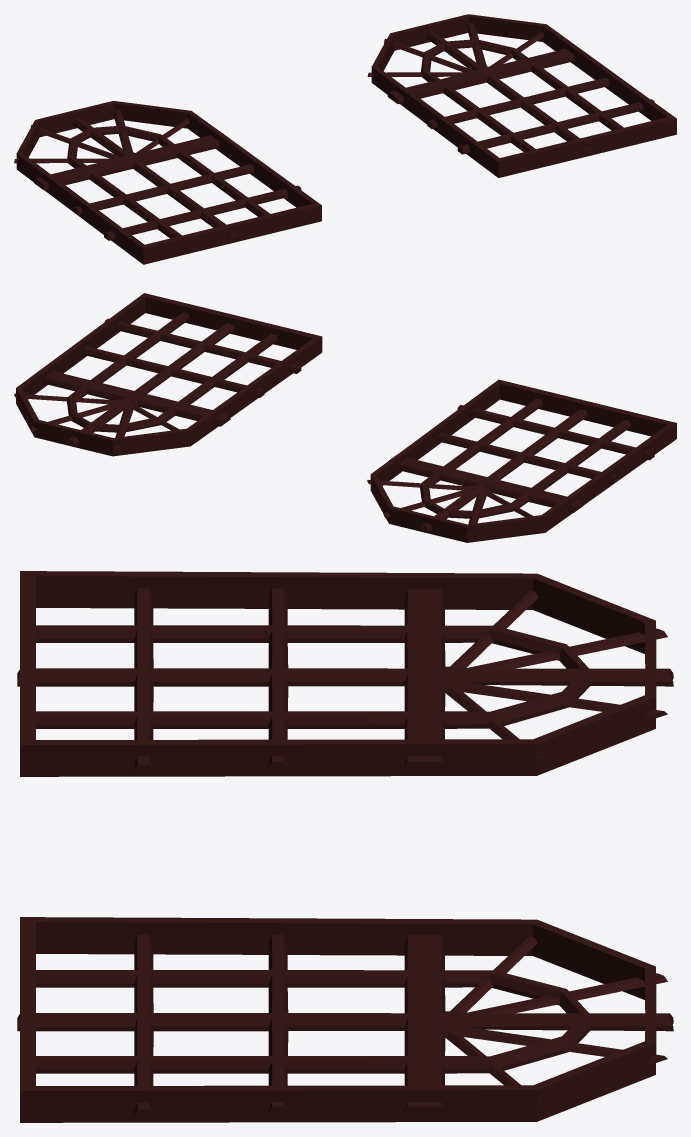
File: P_CadreArrondieSolo.fbx
3 views of the same model, one above another, from view 1: azimuth 30°, elevation 25°; view 2: azimuth 150°, elevation 25°; view 3: azimuth 270°, elevation 25° (orthographic). The views are drawn at different scales.
Visible parts, largest first — view 1: P_CadreArrondieSolo; view 2: P_CadreArrondieSolo; view 3: P_CadreArrondieSolo.
Boxes of the visible parts, <box> form: P_CadreArrondieSolo: <box>14,14,676,264</box>; P_CadreArrondieSolo: <box>14,293,676,542</box>; P_CadreArrondieSolo: <box>17,571,673,1122</box>.
Size of the model in its own units: 329 by 9.16 by 171.
